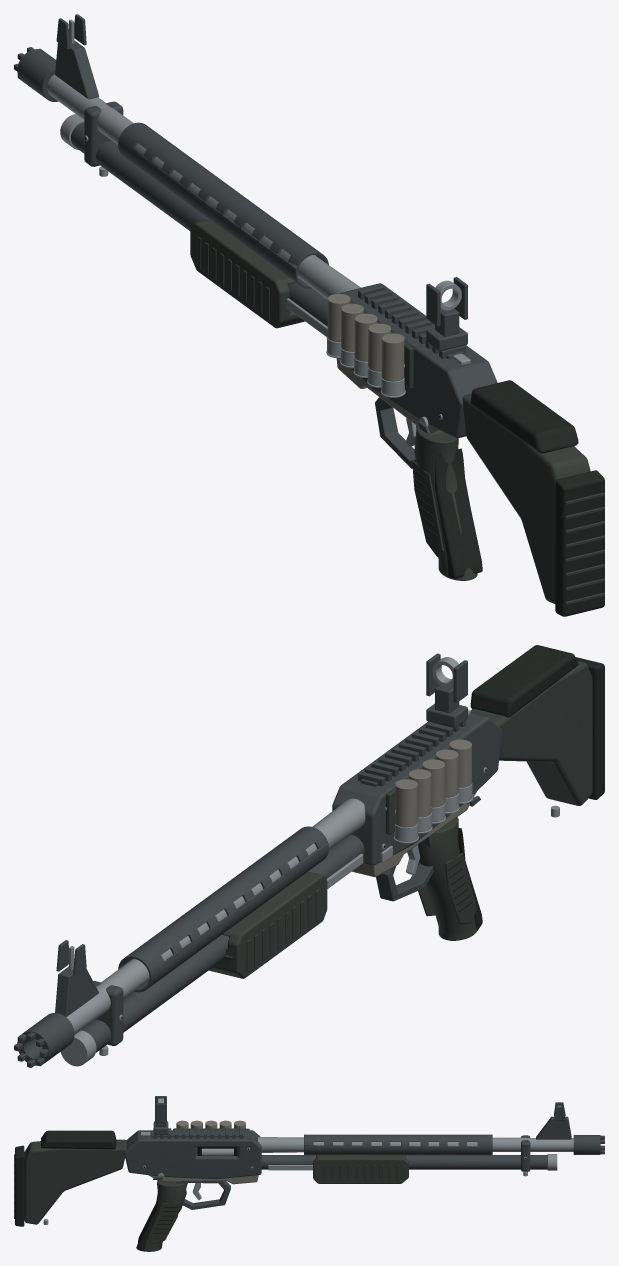
File: shotgun.glb
The picture shows the model from 3 angles, top to bottom: view 1: azimuth 30°, elevation 25°; view 2: azimuth 150°, elevation 25°; view 3: azimuth 270°, elevation 25°; orthographic projection. The views are drawn at different scales.
Parts seen in each view (by area): view 1: Shotgun_Static_Treated graphite, Shotgun_Stock, Shotgun_Receiver, Shotgun_Buttpad, Shotgun_Pump, Shotgun_Static_Warm grey coating, Shotgun_Comb, Shotgun_Barrel, Shotgun_Static_Dense rubber, Shotgun_Static_Machined steel, Shotgun_Grip, Shotgun_Static_Grip stipple; view 2: Shotgun_Static_Treated graphite, Shotgun_Stock, Shotgun_Receiver, Shotgun_Static_Warm grey coating, Shotgun_Pump, Shotgun_Barrel, Shotgun_Comb, Shotgun_Static_Machined steel, Shotgun_Grip, Shotgun_Buttpad, Shotgun_Static_Grip stipple, Shotgun_Static_Dense rubber; view 3: Shotgun_Static_Treated graphite, Shotgun_Receiver, Shotgun_Stock, Shotgun_Pump, Shotgun_Barrel, Shotgun_Comb, Shotgun_Static_Warm grey coating, Shotgun_Grip, Shotgun_Buttpad, Shotgun_Static_Grip stipple, Shotgun_Static_Machined steel, Shotgun_Static_Dense rubber (+1 smaller).
Boxes of the visible parts, bbox=[...] form: Shotgun_Static_Treated graphite: bbox=[14, 14, 467, 468]; Shotgun_Stock: bbox=[462, 393, 590, 603]; Shotgun_Receiver: bbox=[340, 283, 497, 438]; Shotgun_Buttpad: bbox=[555, 470, 604, 616]; Shotgun_Pump: bbox=[190, 219, 304, 328]; Shotgun_Static_Warm grey coating: bbox=[327, 293, 443, 435]; Shotgun_Comb: bbox=[470, 380, 578, 453]; Shotgun_Barrel: bbox=[47, 74, 360, 299]; Shotgun_Static_Dense rubber: bbox=[413, 448, 482, 578]; Shotgun_Static_Machined steel: bbox=[60, 19, 470, 426]; Shotgun_Grip: bbox=[414, 426, 477, 580]; Shotgun_Static_Grip stipple: bbox=[412, 460, 469, 556]; Shotgun_Static_Treated graphite: bbox=[14, 653, 480, 1067]; Shotgun_Stock: bbox=[470, 660, 592, 805]; Shotgun_Receiver: bbox=[332, 713, 501, 865]; Shotgun_Static_Warm grey coating: bbox=[352, 739, 476, 877]; Shotgun_Pump: bbox=[209, 871, 327, 978]; Shotgun_Barrel: bbox=[66, 798, 365, 1034]; Shotgun_Comb: bbox=[470, 645, 578, 717]; Shotgun_Static_Machined steel: bbox=[60, 657, 486, 1066]; Shotgun_Grip: bbox=[418, 817, 476, 940]; Shotgun_Buttpad: bbox=[575, 657, 604, 799]; Shotgun_Static_Grip stipple: bbox=[418, 853, 476, 924]; Shotgun_Static_Dense rubber: bbox=[448, 827, 482, 930]; Shotgun_Static_Treated graphite: bbox=[151, 1096, 604, 1209]; Shotgun_Receiver: bbox=[124, 1130, 261, 1179]; Shotgun_Stock: bbox=[24, 1139, 126, 1224]; Shotgun_Pump: bbox=[313, 1155, 408, 1183]; Shotgun_Barrel: bbox=[258, 1137, 573, 1152]; Shotgun_Comb: bbox=[41, 1130, 116, 1149]; Shotgun_Static_Warm grey coating: bbox=[149, 1120, 258, 1184]; Shotgun_Grip: bbox=[136, 1181, 186, 1251]; Shotgun_Buttpad: bbox=[15, 1145, 24, 1226]; Shotgun_Static_Grip stipple: bbox=[147, 1202, 179, 1243]; Shotgun_Static_Machined steel: bbox=[140, 1098, 561, 1178]; Shotgun_Static_Dense rubber: bbox=[138, 1190, 177, 1251].
Size of the model in its own units: 0.0732 by 0.2749 by 0.987.
Materials: 7 (7 with a texture image).
